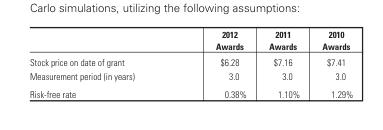table: (28, 28, 352, 99)
table column: (28, 28, 174, 99), (174, 28, 257, 99), (257, 28, 310, 99), (310, 28, 352, 99)
table column header: (28, 28, 352, 53)
table row: (28, 28, 352, 53), (28, 68, 352, 84), (28, 53, 352, 68), (28, 84, 352, 99)
